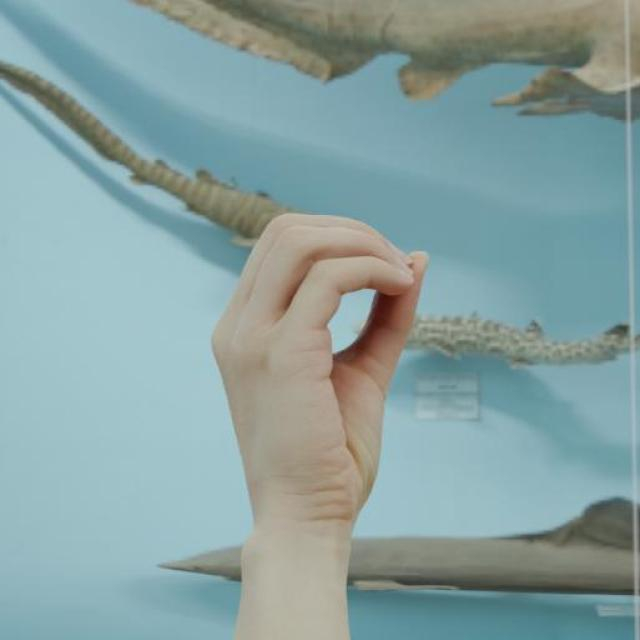O: (181, 189, 470, 593)
